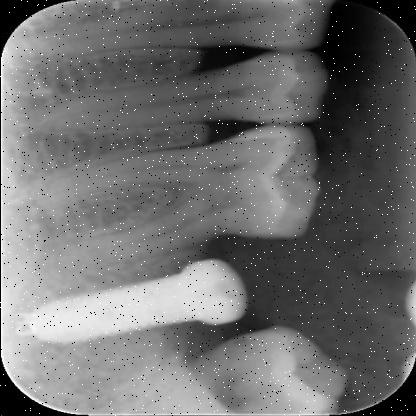Bego: (25, 249, 243, 365)
